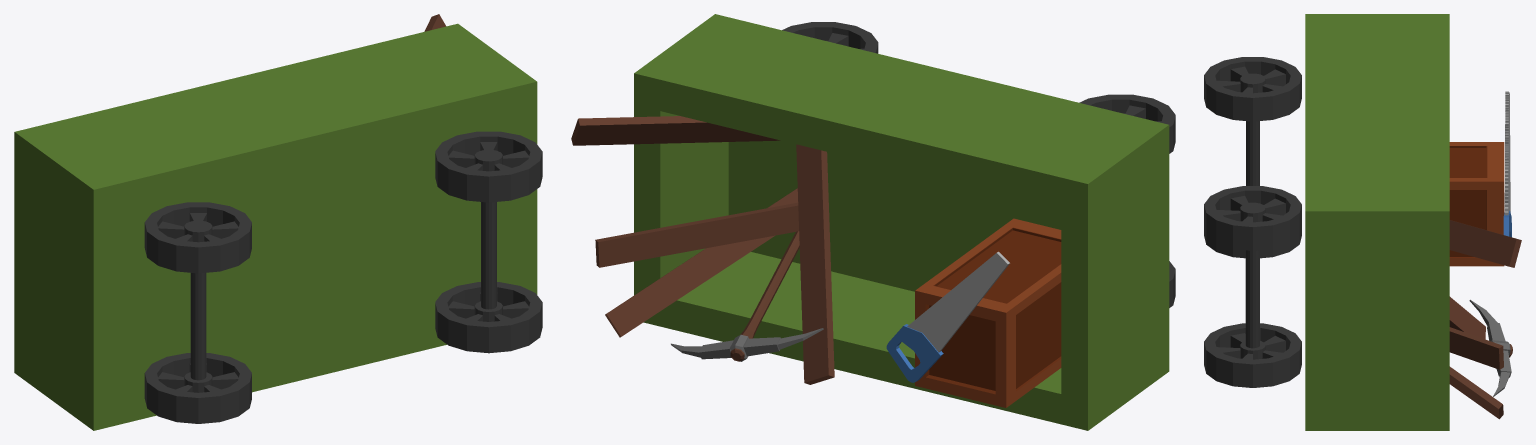
File: Crafting.fbx
3 views of the same model, side by side, from view 1: azimuth 30°, elevation 25°; view 2: azimuth 150°, elevation 25°; view 3: azimuth 270°, elevation 25° (orthographic). The views are drawn at different scales.
Visible parts, largest first — view 1: Wagon; view 2: Wagon; view 3: Wagon.
Boxes of the visible parts, left/top/right/bottom form: Wagon: left=14, top=14, right=542, bottom=430; Wagon: left=571, top=14, right=1175, bottom=430; Wagon: left=1204, top=14, right=1521, bottom=430.
Size of the model in its own units: 164 by 81.9 by 105.
